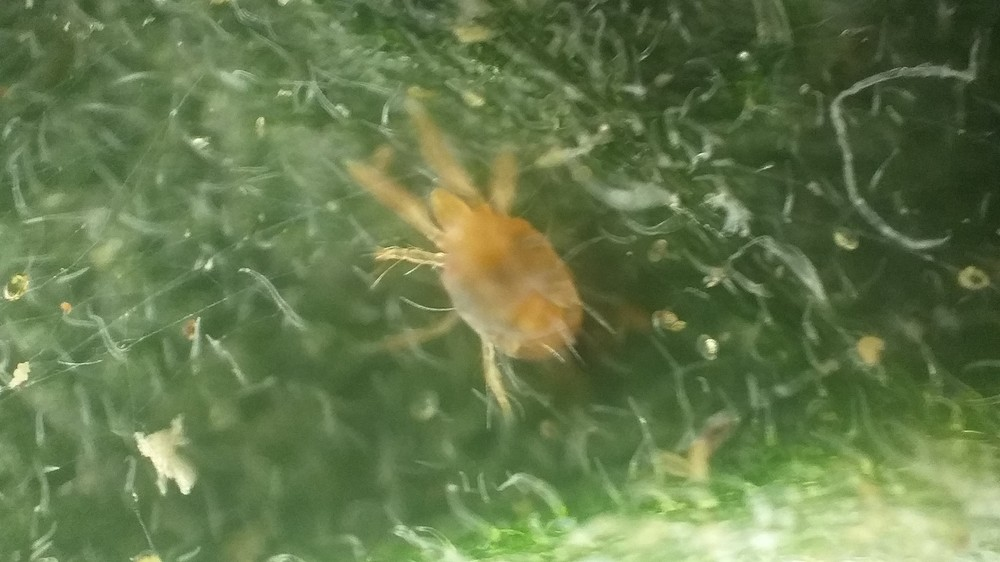Aracnido Rojo: (325, 103, 673, 455)
